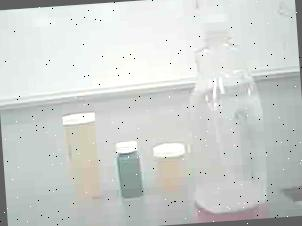Bottle A: (57, 99, 109, 207)
Bottle B: (151, 134, 191, 199)
Bottle C: (110, 135, 148, 204)
hazard: (171, 0, 276, 224)
